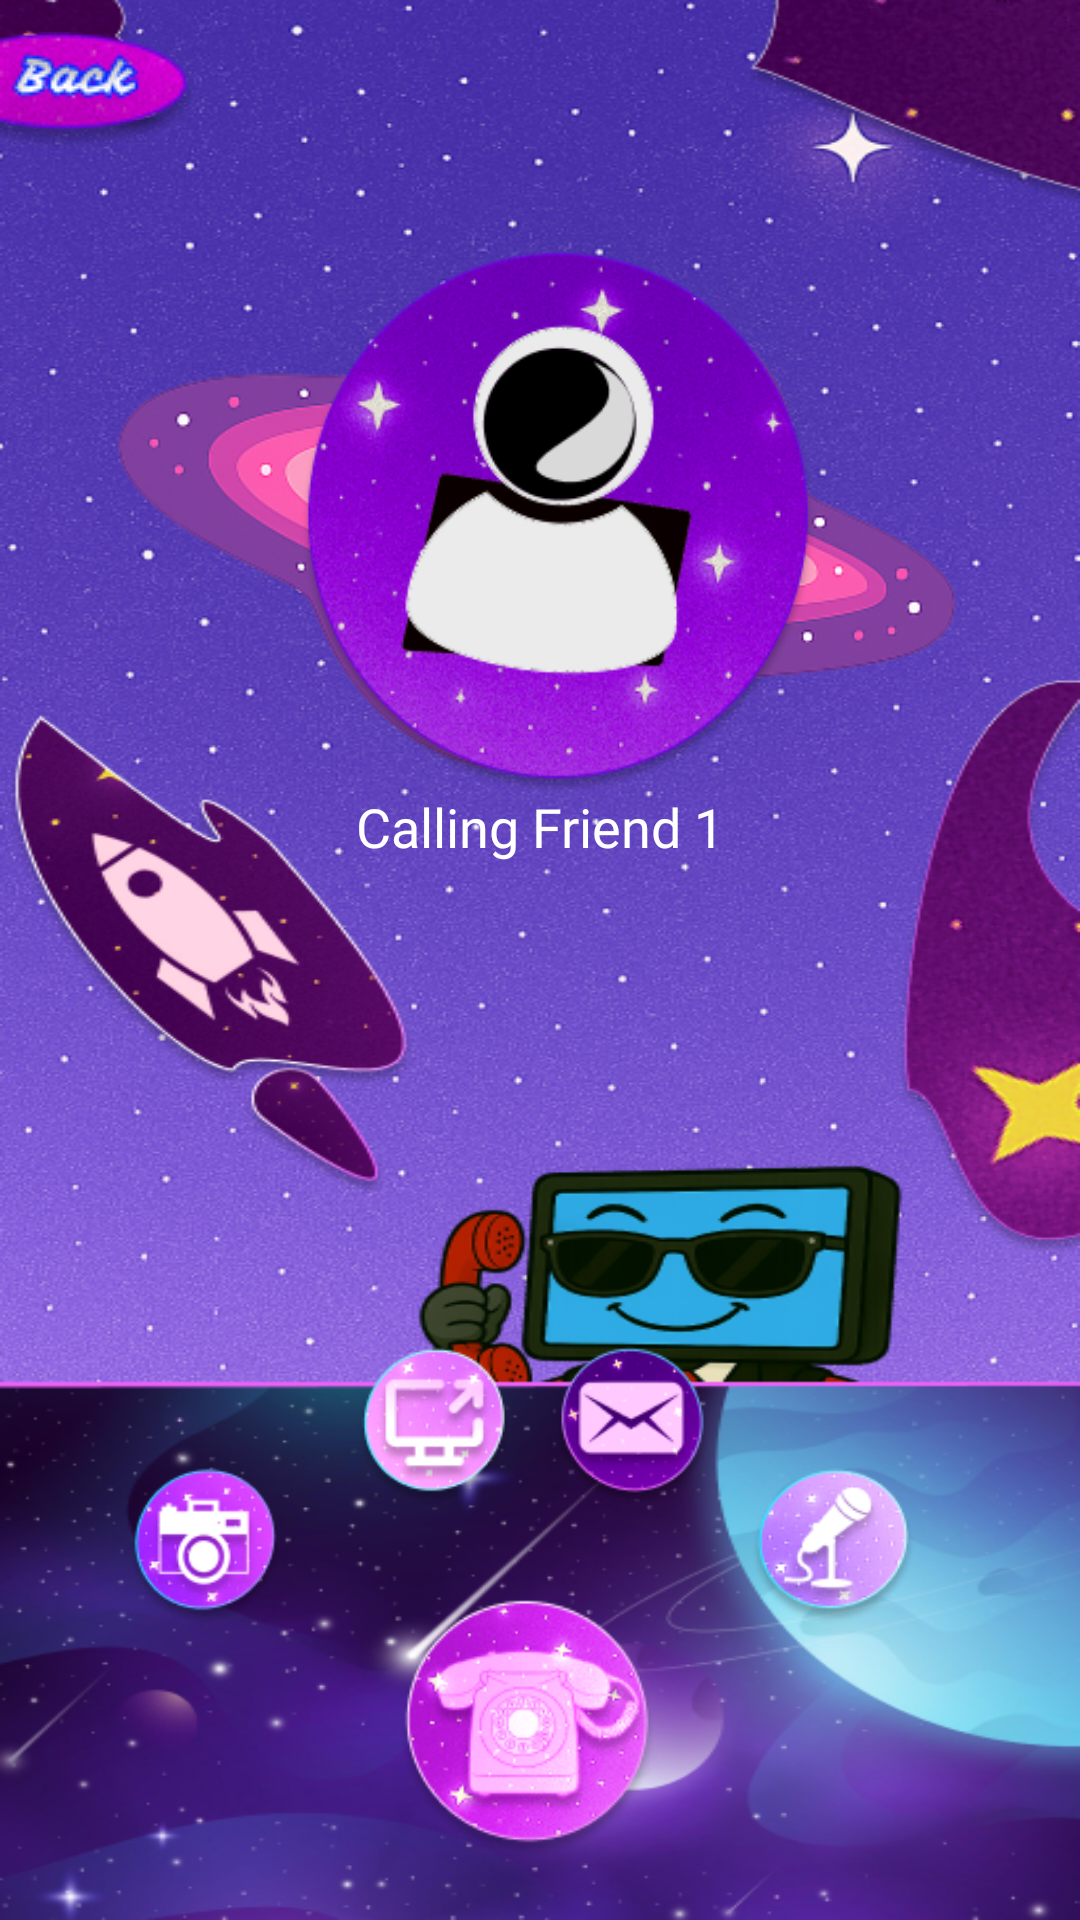

Where to tap for icons on this 1080w x 1920h app screen, as [x,y]:
Back to chat: [632,1428]
End Call: [538,1725]
Share Screen: [434,1420]
